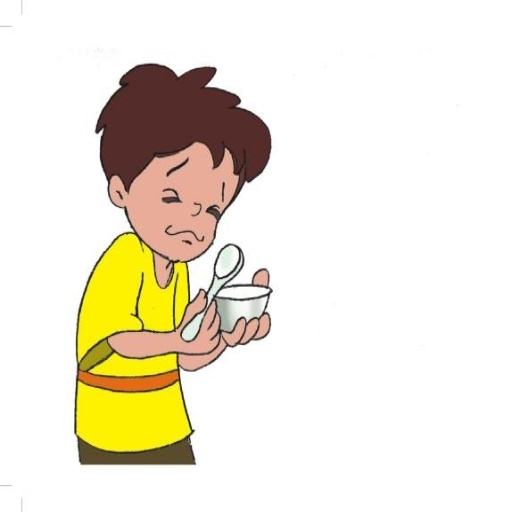hand: (221, 266, 272, 347), (173, 295, 222, 361)
